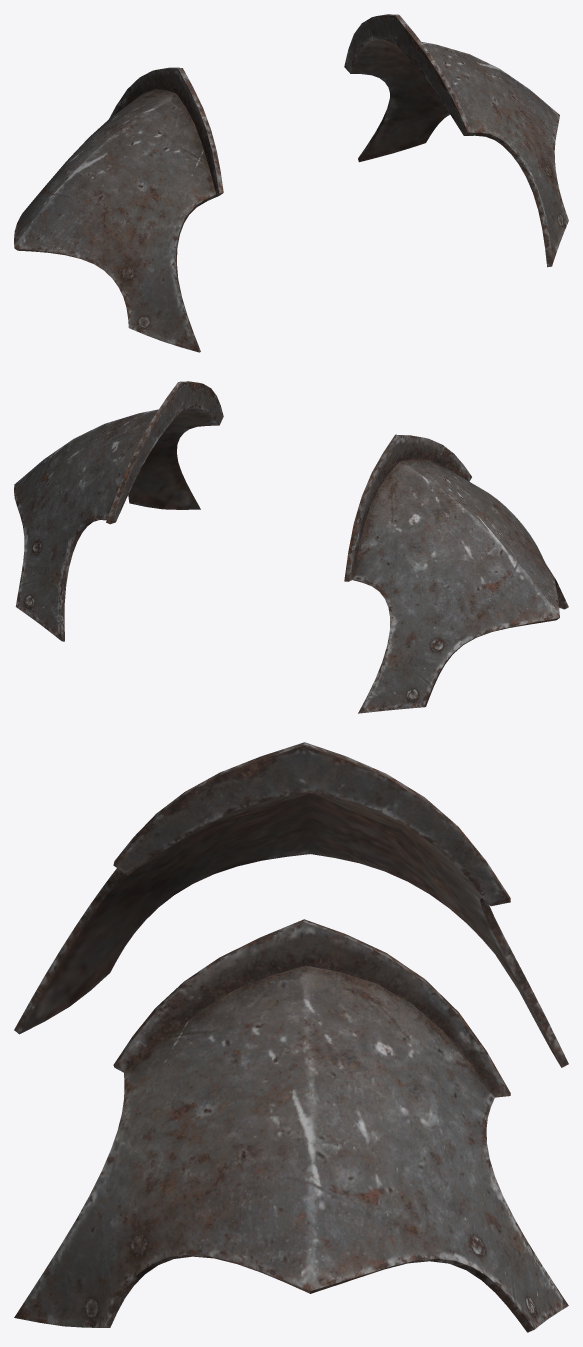
Rendered from sk_gb_uruk_pauldron_med_a.fbx.
3 views of the same model, one above another, from view 1: azimuth 30°, elevation 25°; view 2: azimuth 150°, elevation 25°; view 3: azimuth 270°, elevation 25° (orthographic). The views are drawn at different scales.
Parts seen in each view (by area): view 1: sk_gb_uruk_pauldron_med_a; view 2: sk_gb_uruk_pauldron_med_a; view 3: sk_gb_uruk_pauldron_med_a.
Boxes of the visible parts, <box> form: sk_gb_uruk_pauldron_med_a: <box>14,14,568,352</box>; sk_gb_uruk_pauldron_med_a: <box>14,381,568,713</box>; sk_gb_uruk_pauldron_med_a: <box>14,742,568,1332</box>.
Size of the model in its own units: 0.621 by 0.327 by 0.2312.
1 material, 1 textured.
